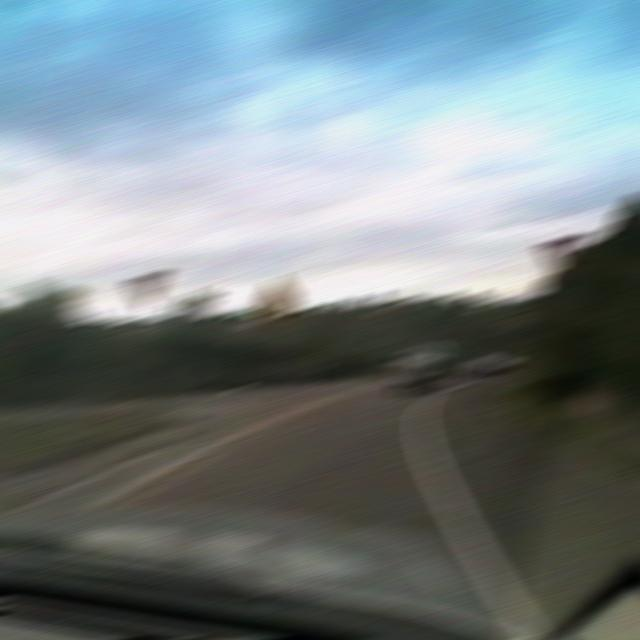yield: (539, 235, 585, 272), (123, 271, 167, 305)
